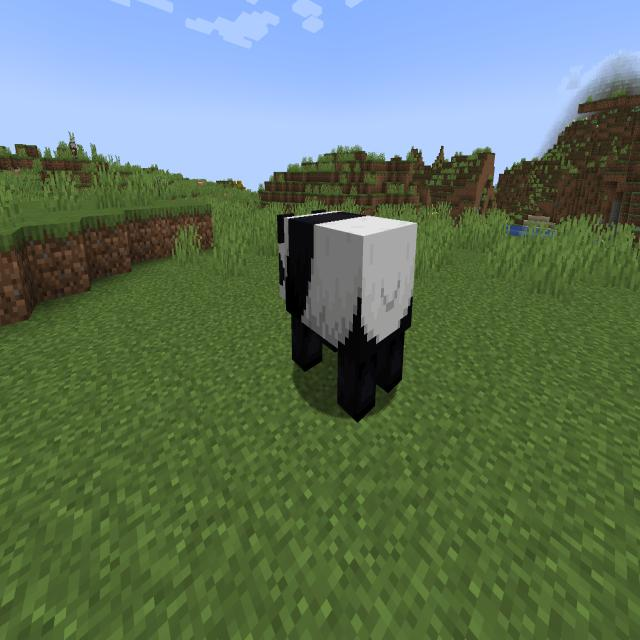Panda: (269, 190, 426, 432)
